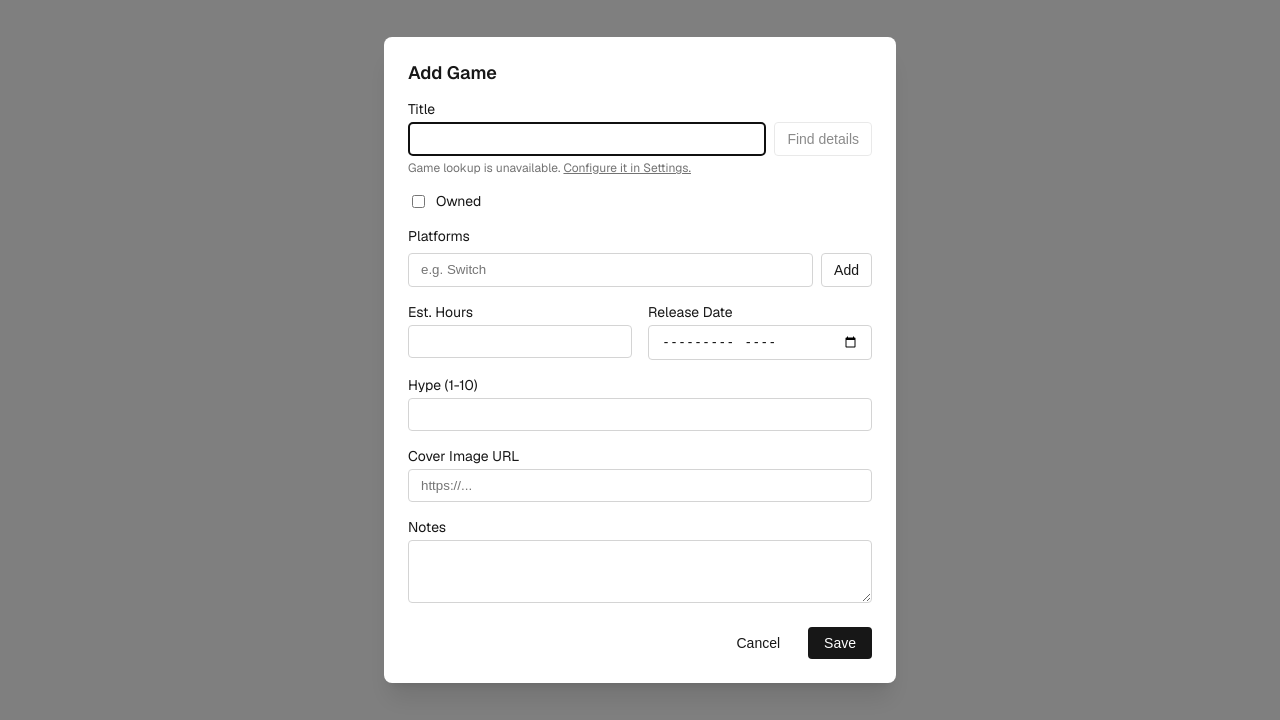
Test case: GameFormModal › keeps platform focus to add multiple drafts when lookup is unavailable
Expected: the text "Game lookup is unavailable." is shown, x1=408 y1=160 x2=560 y2=176
In the field labelled "Title": (587, 139) x1=408 y1=122 x2=766 y2=156, type "Celeste"
Press Enter
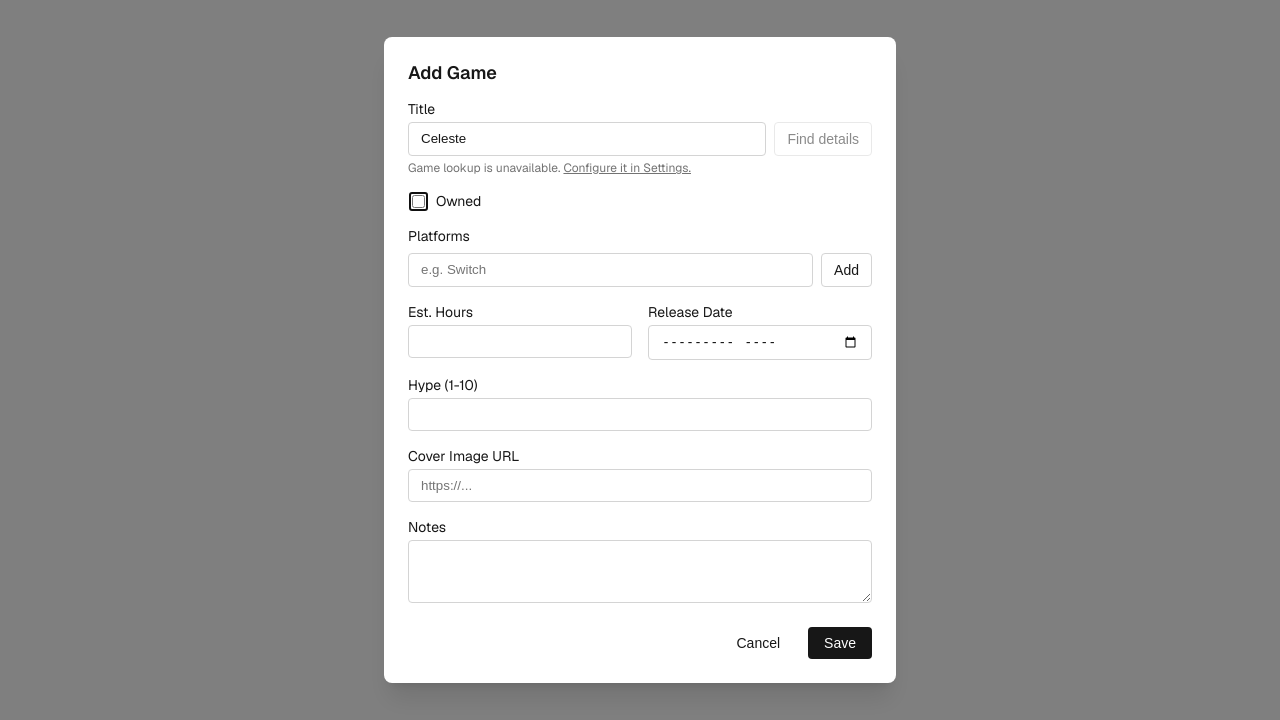
Press Enter
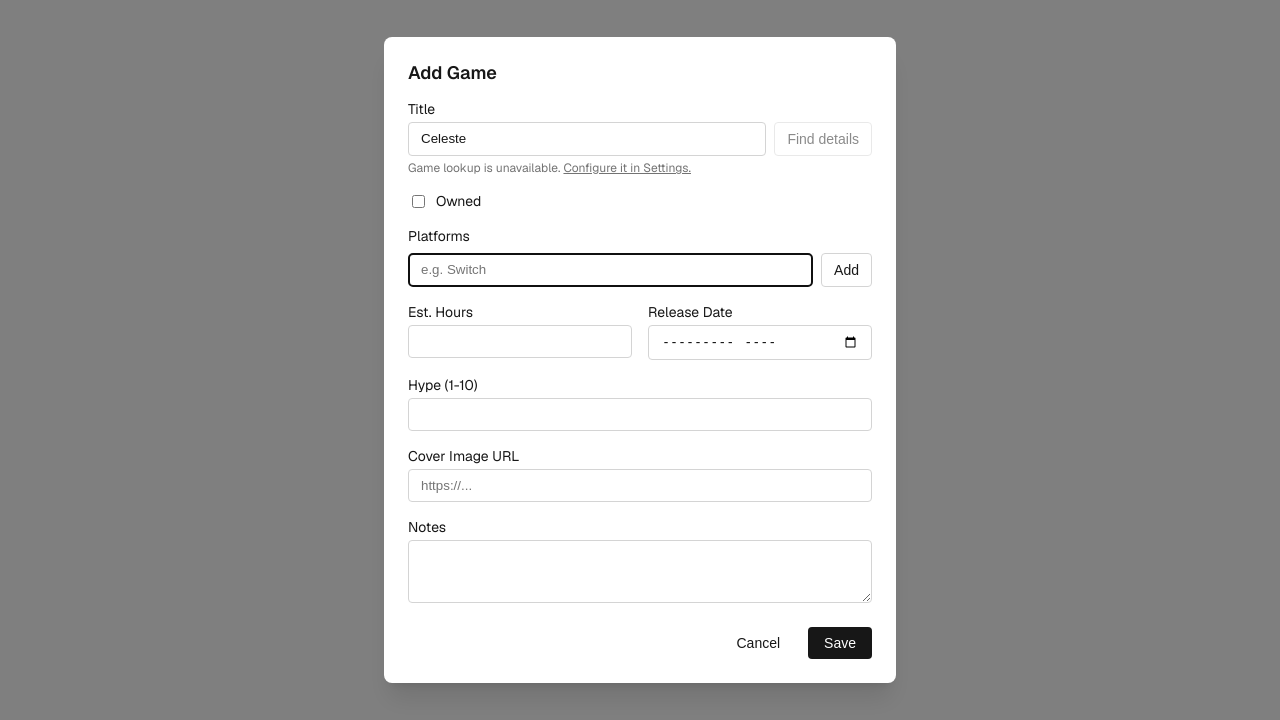
In the field with placeholder "e.g. Switch": (611, 270) x1=408 y1=253 x2=813 y2=287, type "PS5"
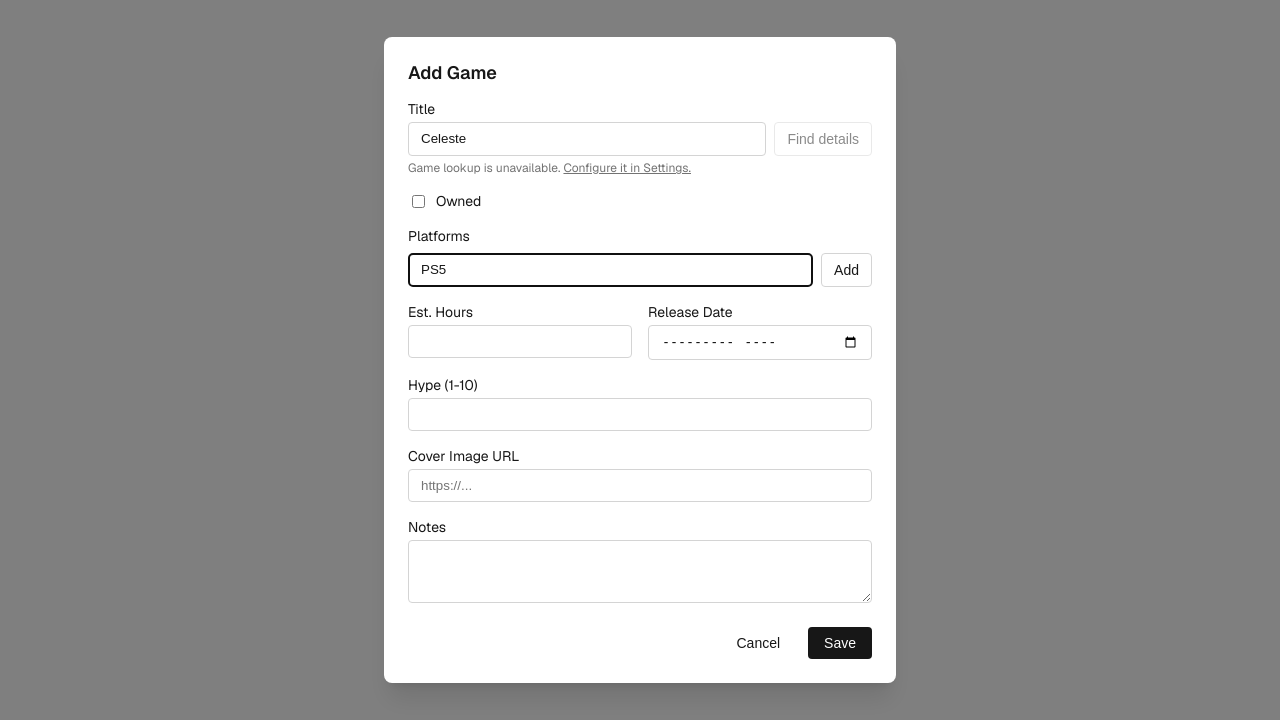
Press Enter
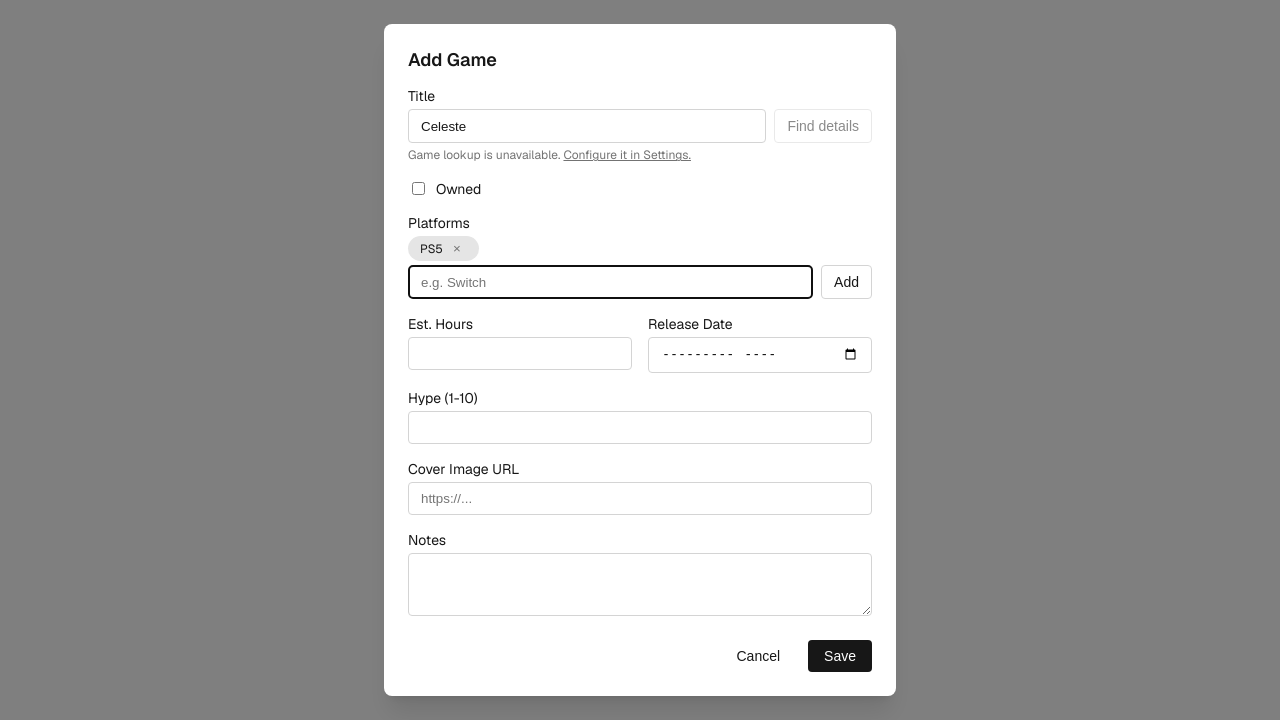
Result: the text "PS5" is shown at x1=420 y1=241 x2=443 y2=257
In the field with placeholder "e.g. Switch": (611, 282) x1=408 y1=265 x2=813 y2=299, type "Switch"
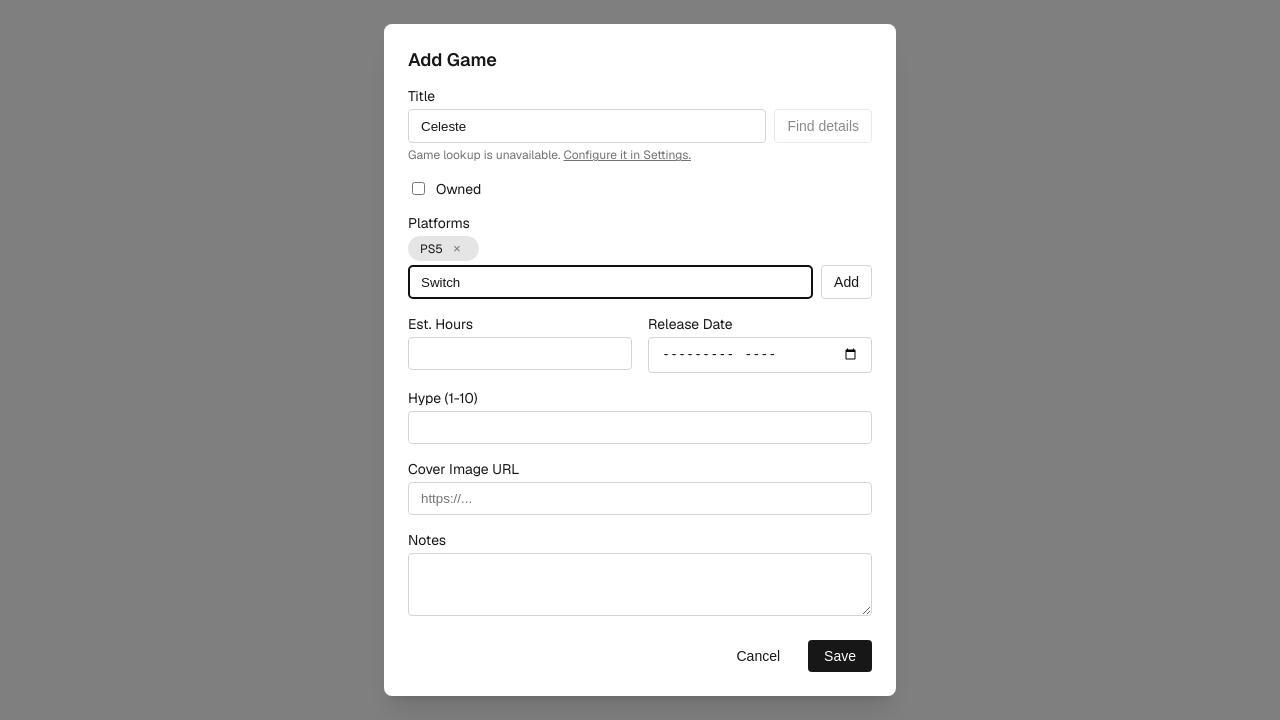
Press Enter
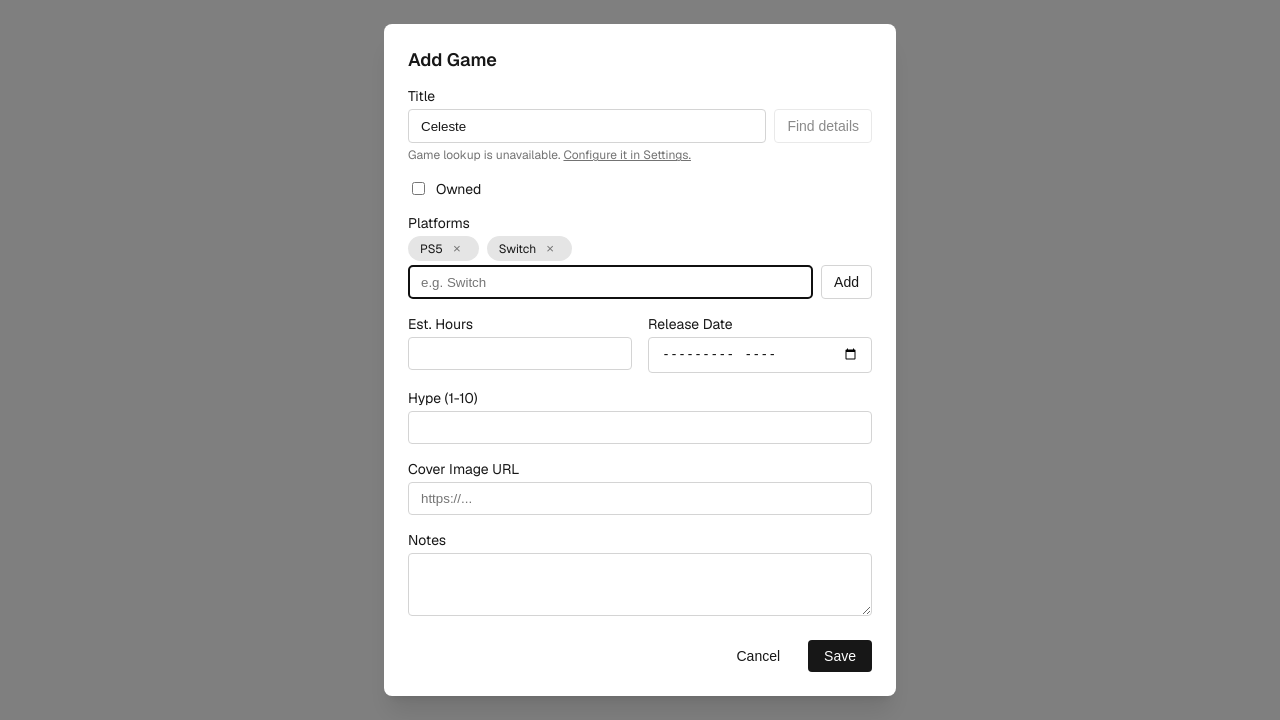
Result: the text "Switch" is shown at x1=499 y1=241 x2=536 y2=257
